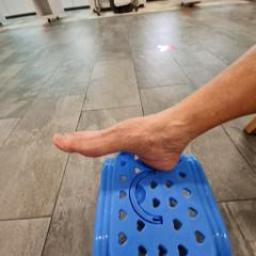Medial View -Right Foot-: (36, 93, 212, 177)
